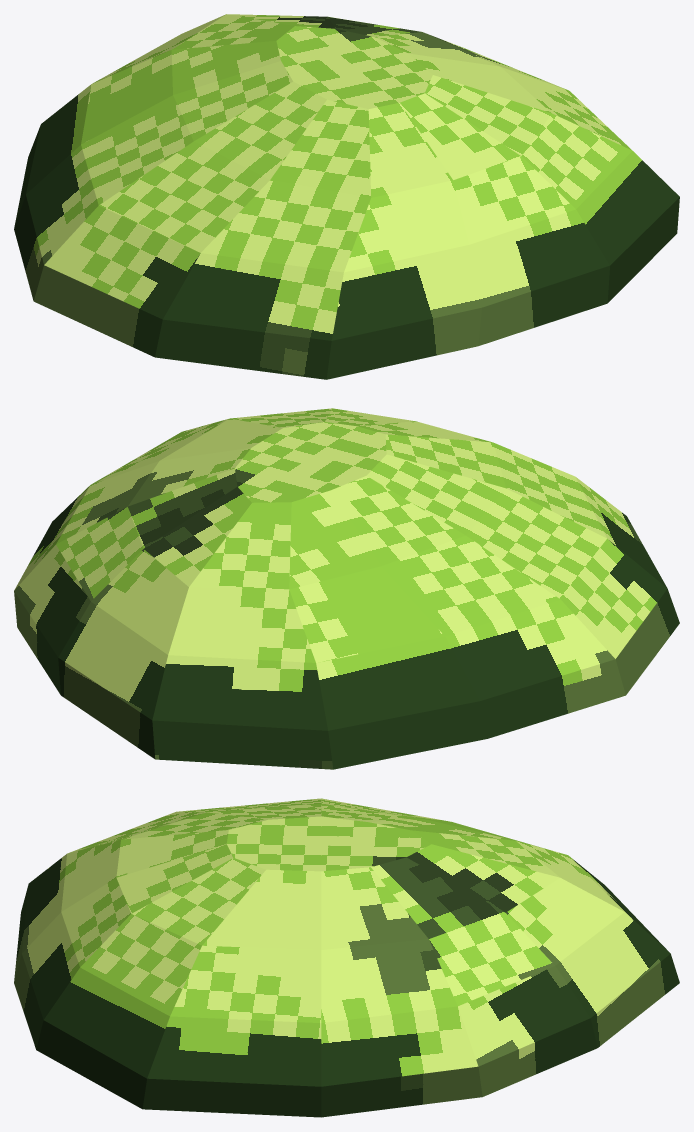
File: SM_Dirt_SlimeBucketFill_01.glb
The picture shows the model from 3 angles, top to bottom: view 1: azimuth 30°, elevation 25°; view 2: azimuth 150°, elevation 25°; view 3: azimuth 270°, elevation 25°; orthographic projection. The views are drawn at different scales.
Parts seen in each view (by area): view 1: slime_shell; view 2: slime_shell; view 3: slime_shell.
Boxes of the visible parts, x1,y1,x2,y2 form: slime_shell: (14,14,679,379); slime_shell: (14,408,679,769); slime_shell: (14,798,679,1117).
Bounding box in the file's own units: 0.2203 × 0.0653 × 0.2262.
Materials: 1 (1 with a texture image).
